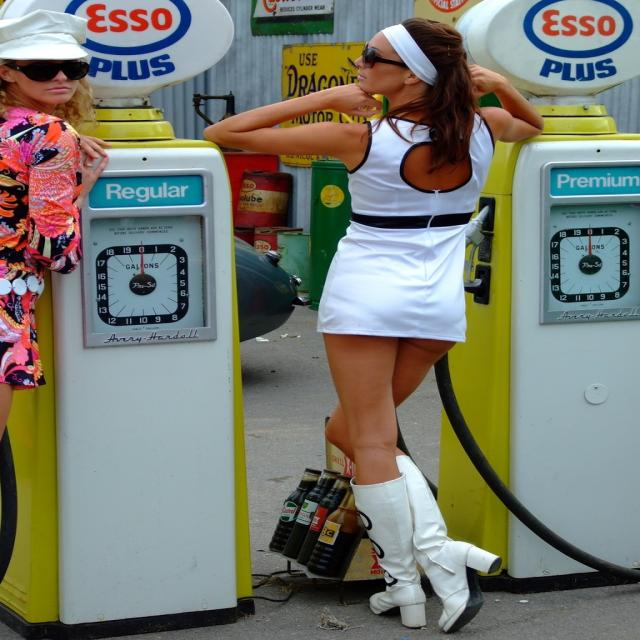esso: (64, 2, 200, 59), (518, 2, 639, 62)
